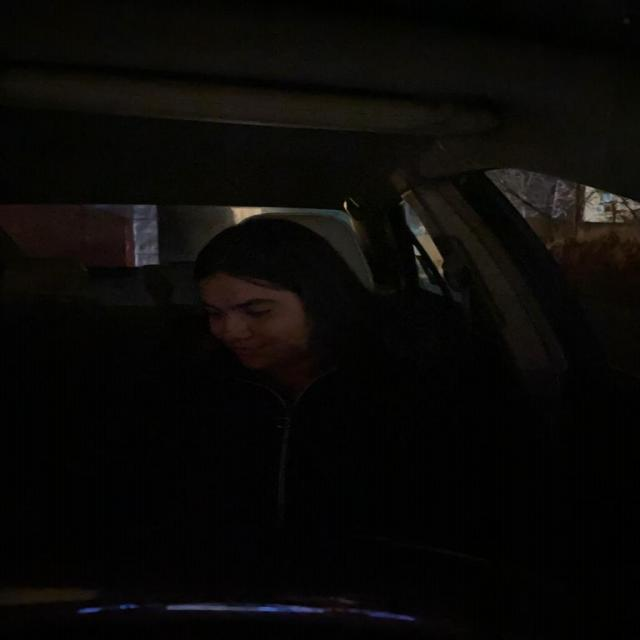drowsy: (186, 210, 357, 384)
